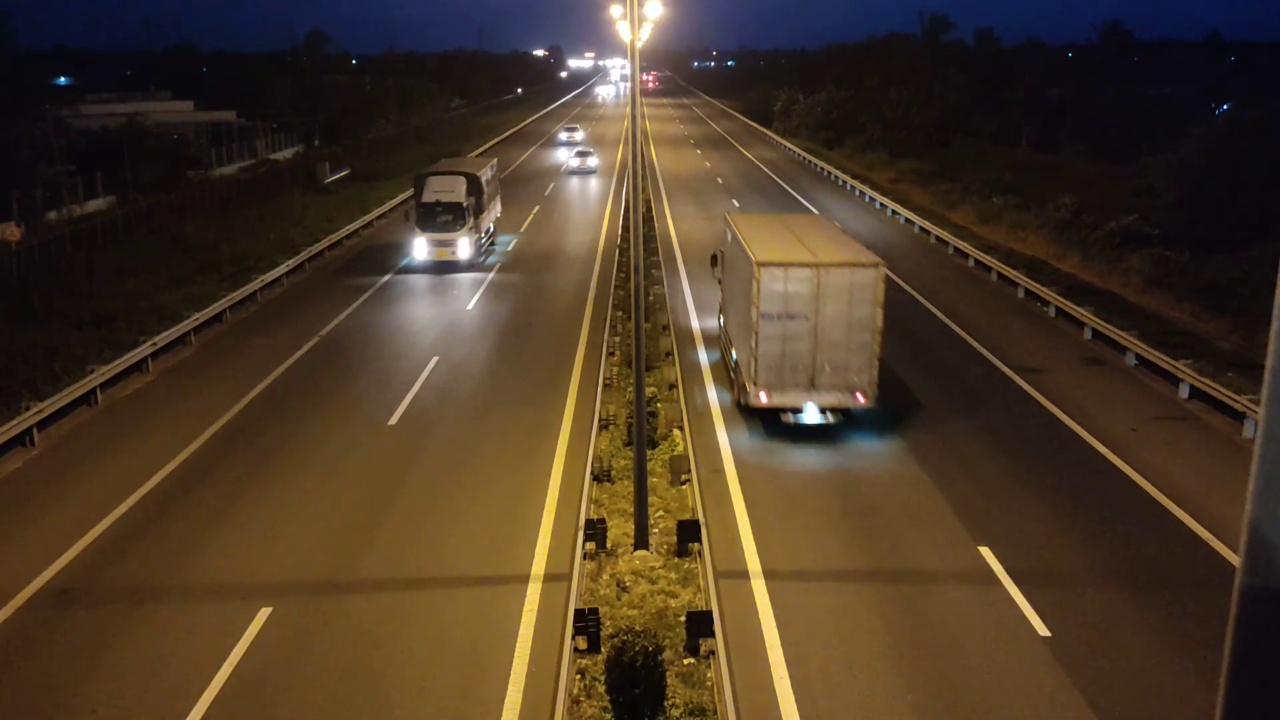car: (563, 147, 599, 175), (555, 124, 587, 146)
truck: (709, 210, 888, 435), (410, 155, 503, 267)
